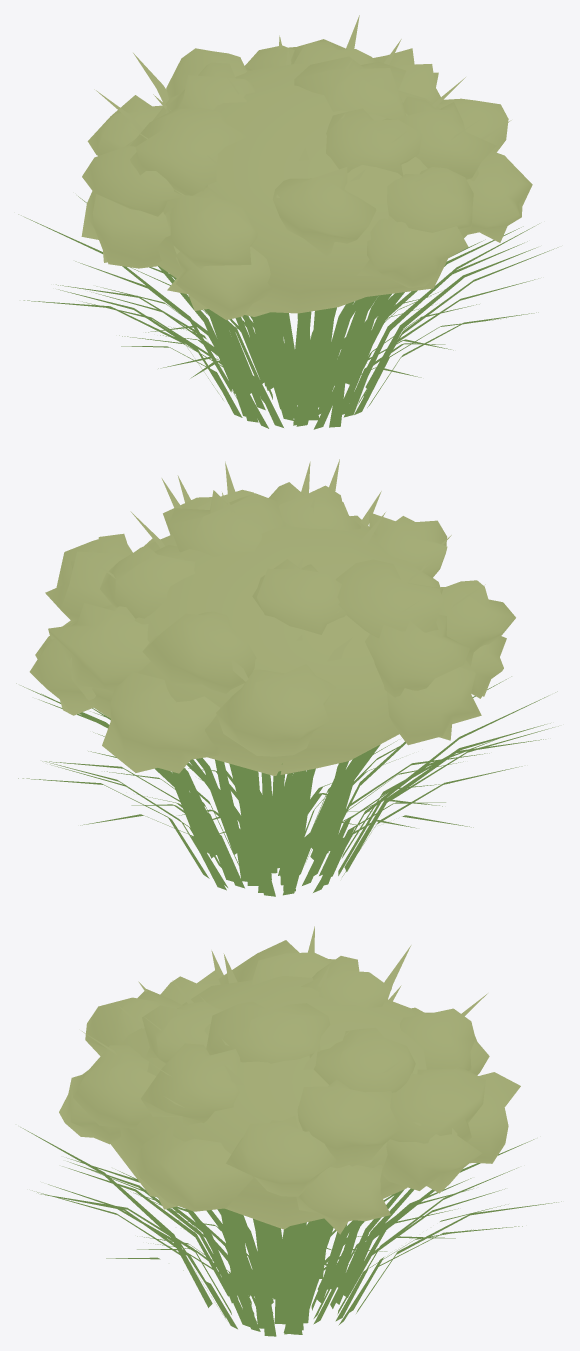
File: Blender_MuhlyGrass_1.glb
The picture shows the model from 3 angles, top to bottom: view 1: azimuth 30°, elevation 25°; view 2: azimuth 150°, elevation 25°; view 3: azimuth 270°, elevation 25°; orthographic projection. The views are drawn at different scales.
Parts seen in each view (by area): view 1: Blender_MuhlyGrass_1; view 2: Blender_MuhlyGrass_1; view 3: Blender_MuhlyGrass_1.
Part boxes in pixels (x1=…): Blender_MuhlyGrass_1: x1=18, y1=15, x2=558, y2=429; Blender_MuhlyGrass_1: x1=16, y1=459, x2=558, y2=896; Blender_MuhlyGrass_1: x1=20, y1=926, x2=561, y2=1336.
Size of the model in its own units: 1.25 by 0.8627 by 1.31.
